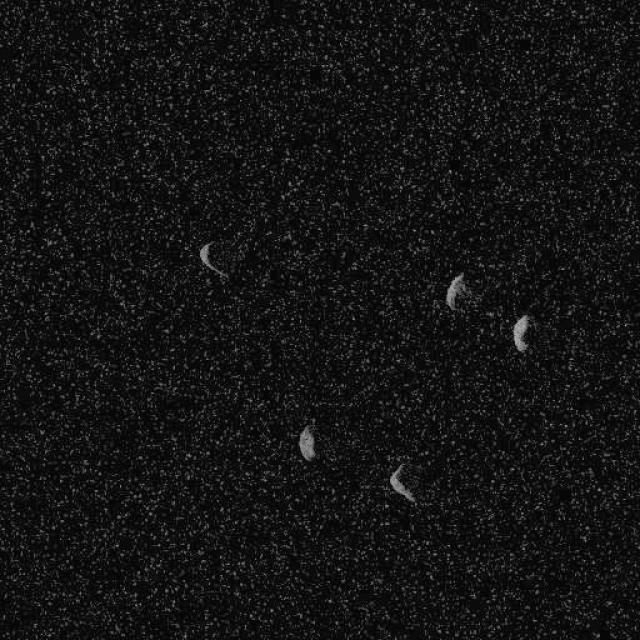D2: (388, 461, 418, 504), (198, 240, 228, 282), (443, 271, 468, 310), (511, 312, 530, 352), (298, 424, 316, 461)
